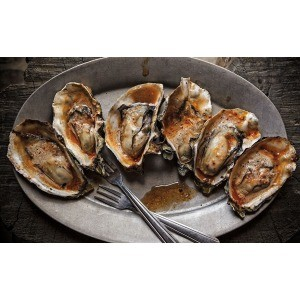oyster_brain food: (113, 80, 157, 176)
